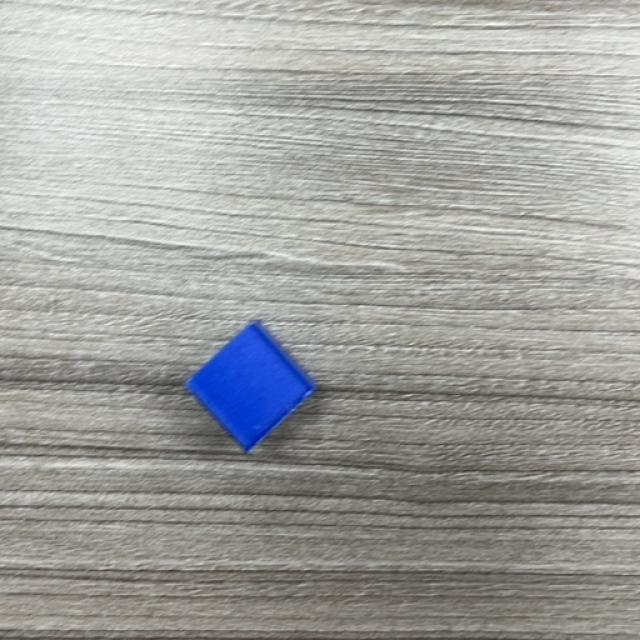Azul: (184, 322, 316, 454)
